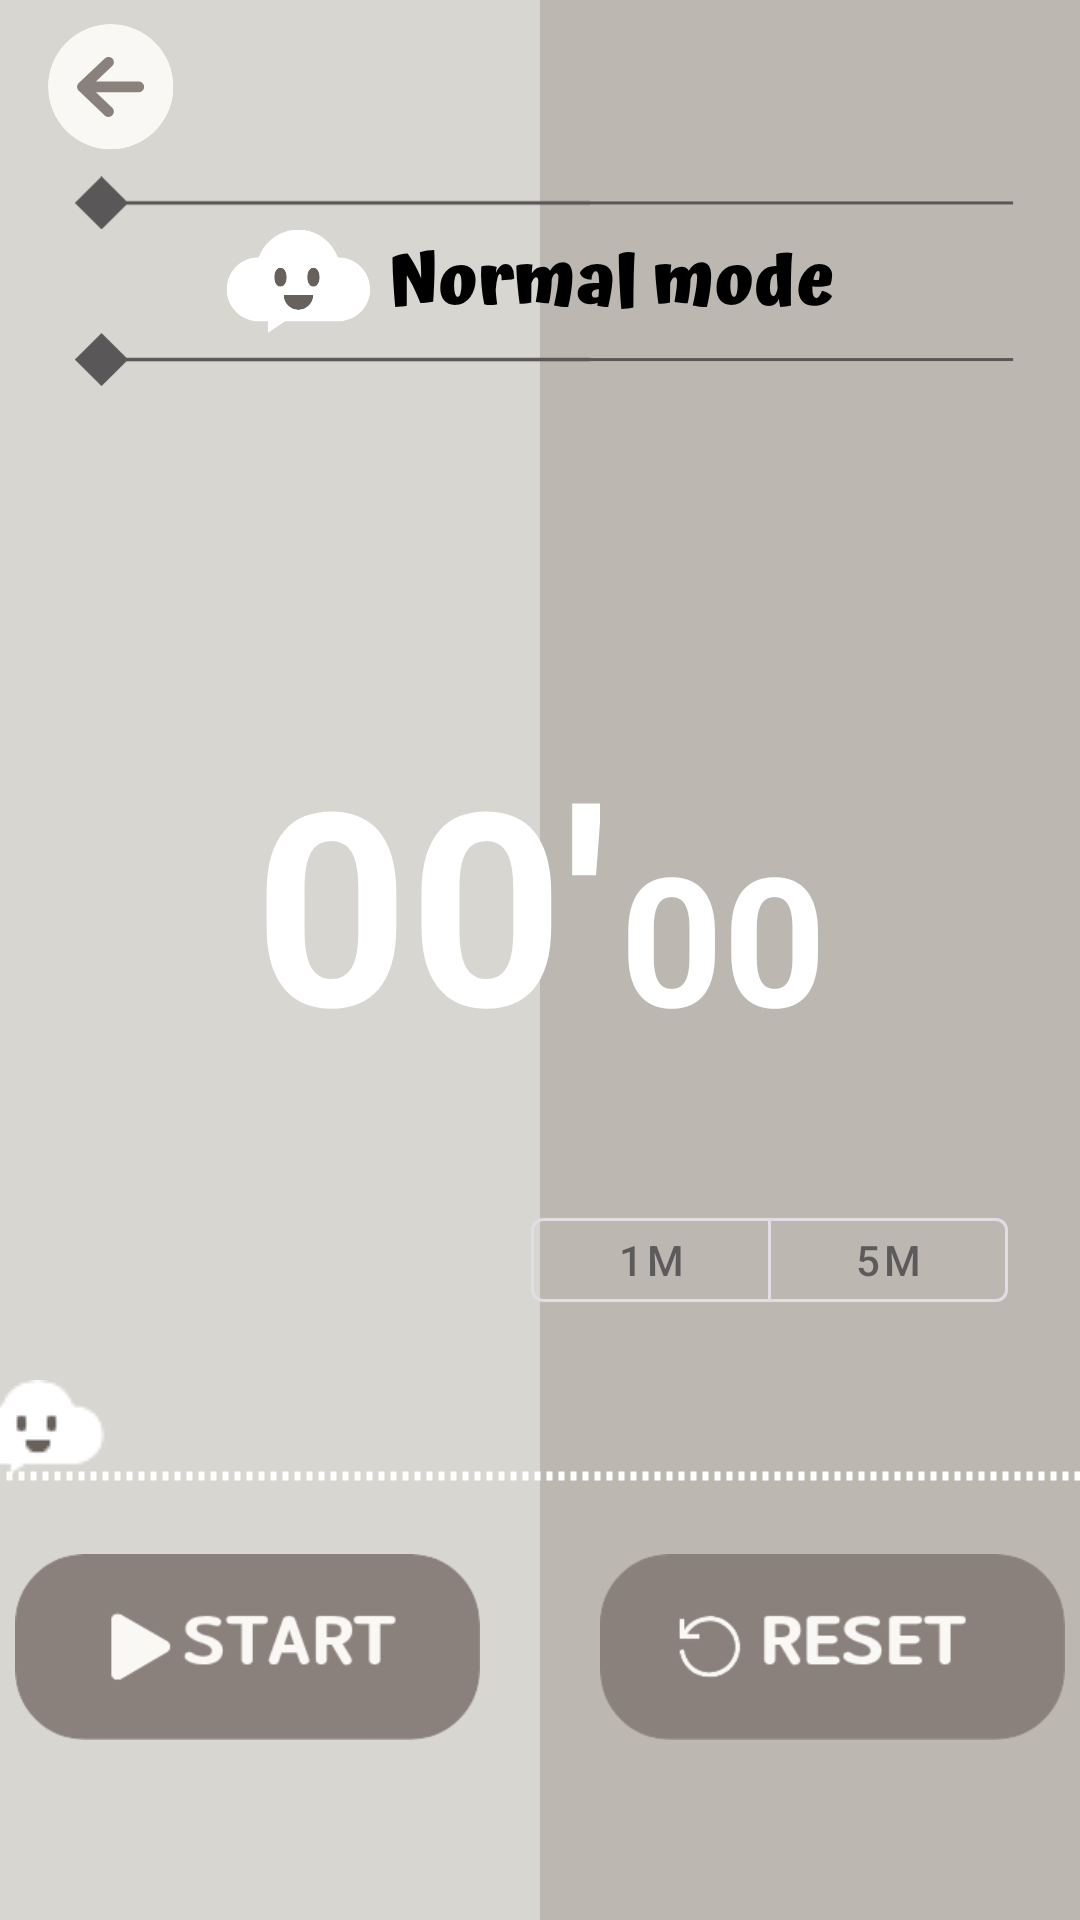

Screen size 1080px x 1920px. Icon name, then its box in pixels as box=[x1, y1, x2, y2]:
back: box=[48, 24, 173, 149]
